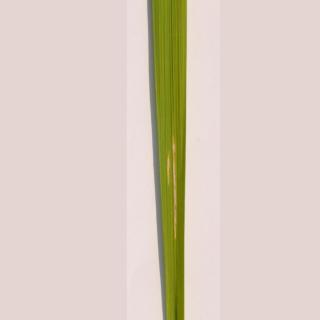Hawar-Daun: (154, 129, 200, 247)
